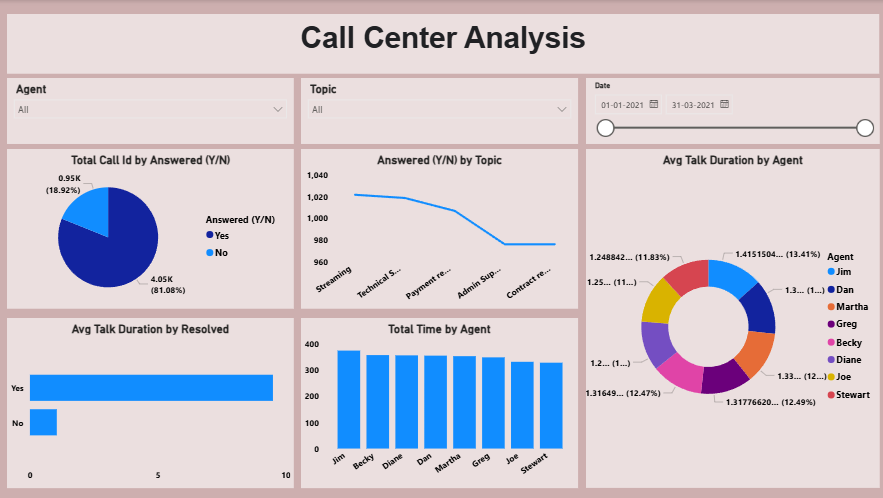

This screenshot's page, from the dashboard's own definition file:
{"tool":"powerbi","page":{"name":"Page 1","canvas":[1280,720],"ordinal":0},"visuals":[{"type":"textbox","box":[10.1,20.2,1256.5,85.7],"z":0},{"type":"slicer","fields":{"Values":["Sheet1.Agent"]},"box":[10.1,112.3,413.3,95],"z":1000},{"type":"slicer","fields":{"Values":["Sheet1.Topic"]},"box":[433.4,112.3,398.9,95],"z":2000},{"type":"slicer","fields":{"Values":["Sheet1.Date"]},"box":[843.8,112.3,423.4,95],"z":3000},{"type":"pieChart","title":"Total Call Id by Answered (Y/N)","fields":{"Category":["Sheet1.Answered (Y/N)"],"Y":["CountNonNull(Sheet1.Call Id)"]},"box":[10.1,214.6,413.3,230.4],"z":4000},{"type":"clusteredBarChart","title":"Avg Talk Duration by Resolved","fields":{"Y":["Sum(Sheet1.AvgTalkDuration)"],"Category":["Sheet1.Resolved"]},"box":[10.1,457.9,413.3,244.8],"z":5000},{"type":"lineChart","title":"Answered (Y/N) by Topic","fields":{"Category":["Sheet1.Topic"],"Y":["CountNonNull(Sheet1.Answered (Y/N))"]},"box":[433,215,399,230],"z":6000},{"type":"clusteredColumnChart","title":"Total Time by Agent","fields":{"Category":["Sheet1.Agent"],"Y":["Sum(Sheet1.Time)"]},"box":[433,458,399,245],"z":7000},{"type":"donutChart","title":"Avg Talk Duration by Agent","fields":{"Category":["Sheet1.Agent"],"Y":["Sum(Sheet1.AvgTalkDuration)"]},"box":[843.8,214.6,423.4,488.2],"z":8000}]}

Visuals, with their boxes in screenshot pixels (x1, y1, x2, y2), scaled from the page's 1280x720 canvas onto the 883x498 screenshot:
textbox: 7 14 874 73
slicer - Sheet1.Agent: 7 78 292 143
slicer - Sheet1.Topic: 299 78 574 143
slicer - Sheet1.Date: 582 78 874 143
"Total Call Id by Answered (Y/N)" pieChart: 7 148 292 308
"Avg Talk Duration by Resolved" clusteredBarChart: 7 317 292 486
"Answered (Y/N) by Topic" lineChart: 299 149 574 308
"Total Time by Agent" clusteredColumnChart: 299 317 574 486
"Avg Talk Duration by Agent" donutChart: 582 148 874 486
